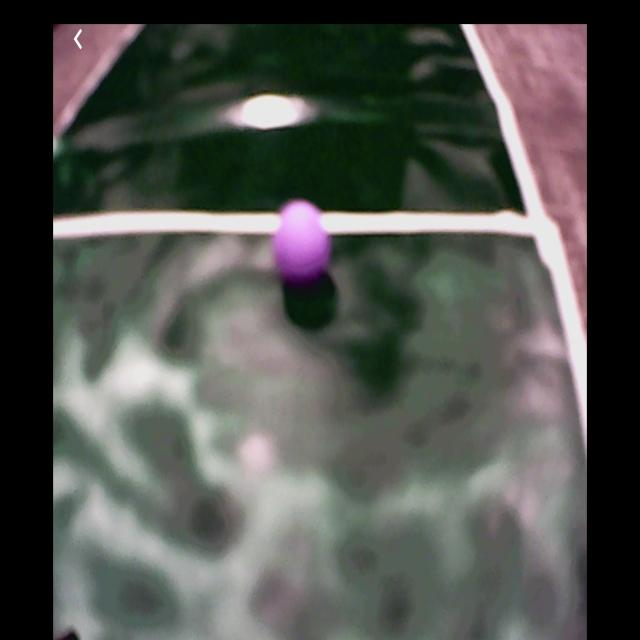ball: (272, 198, 333, 284)
